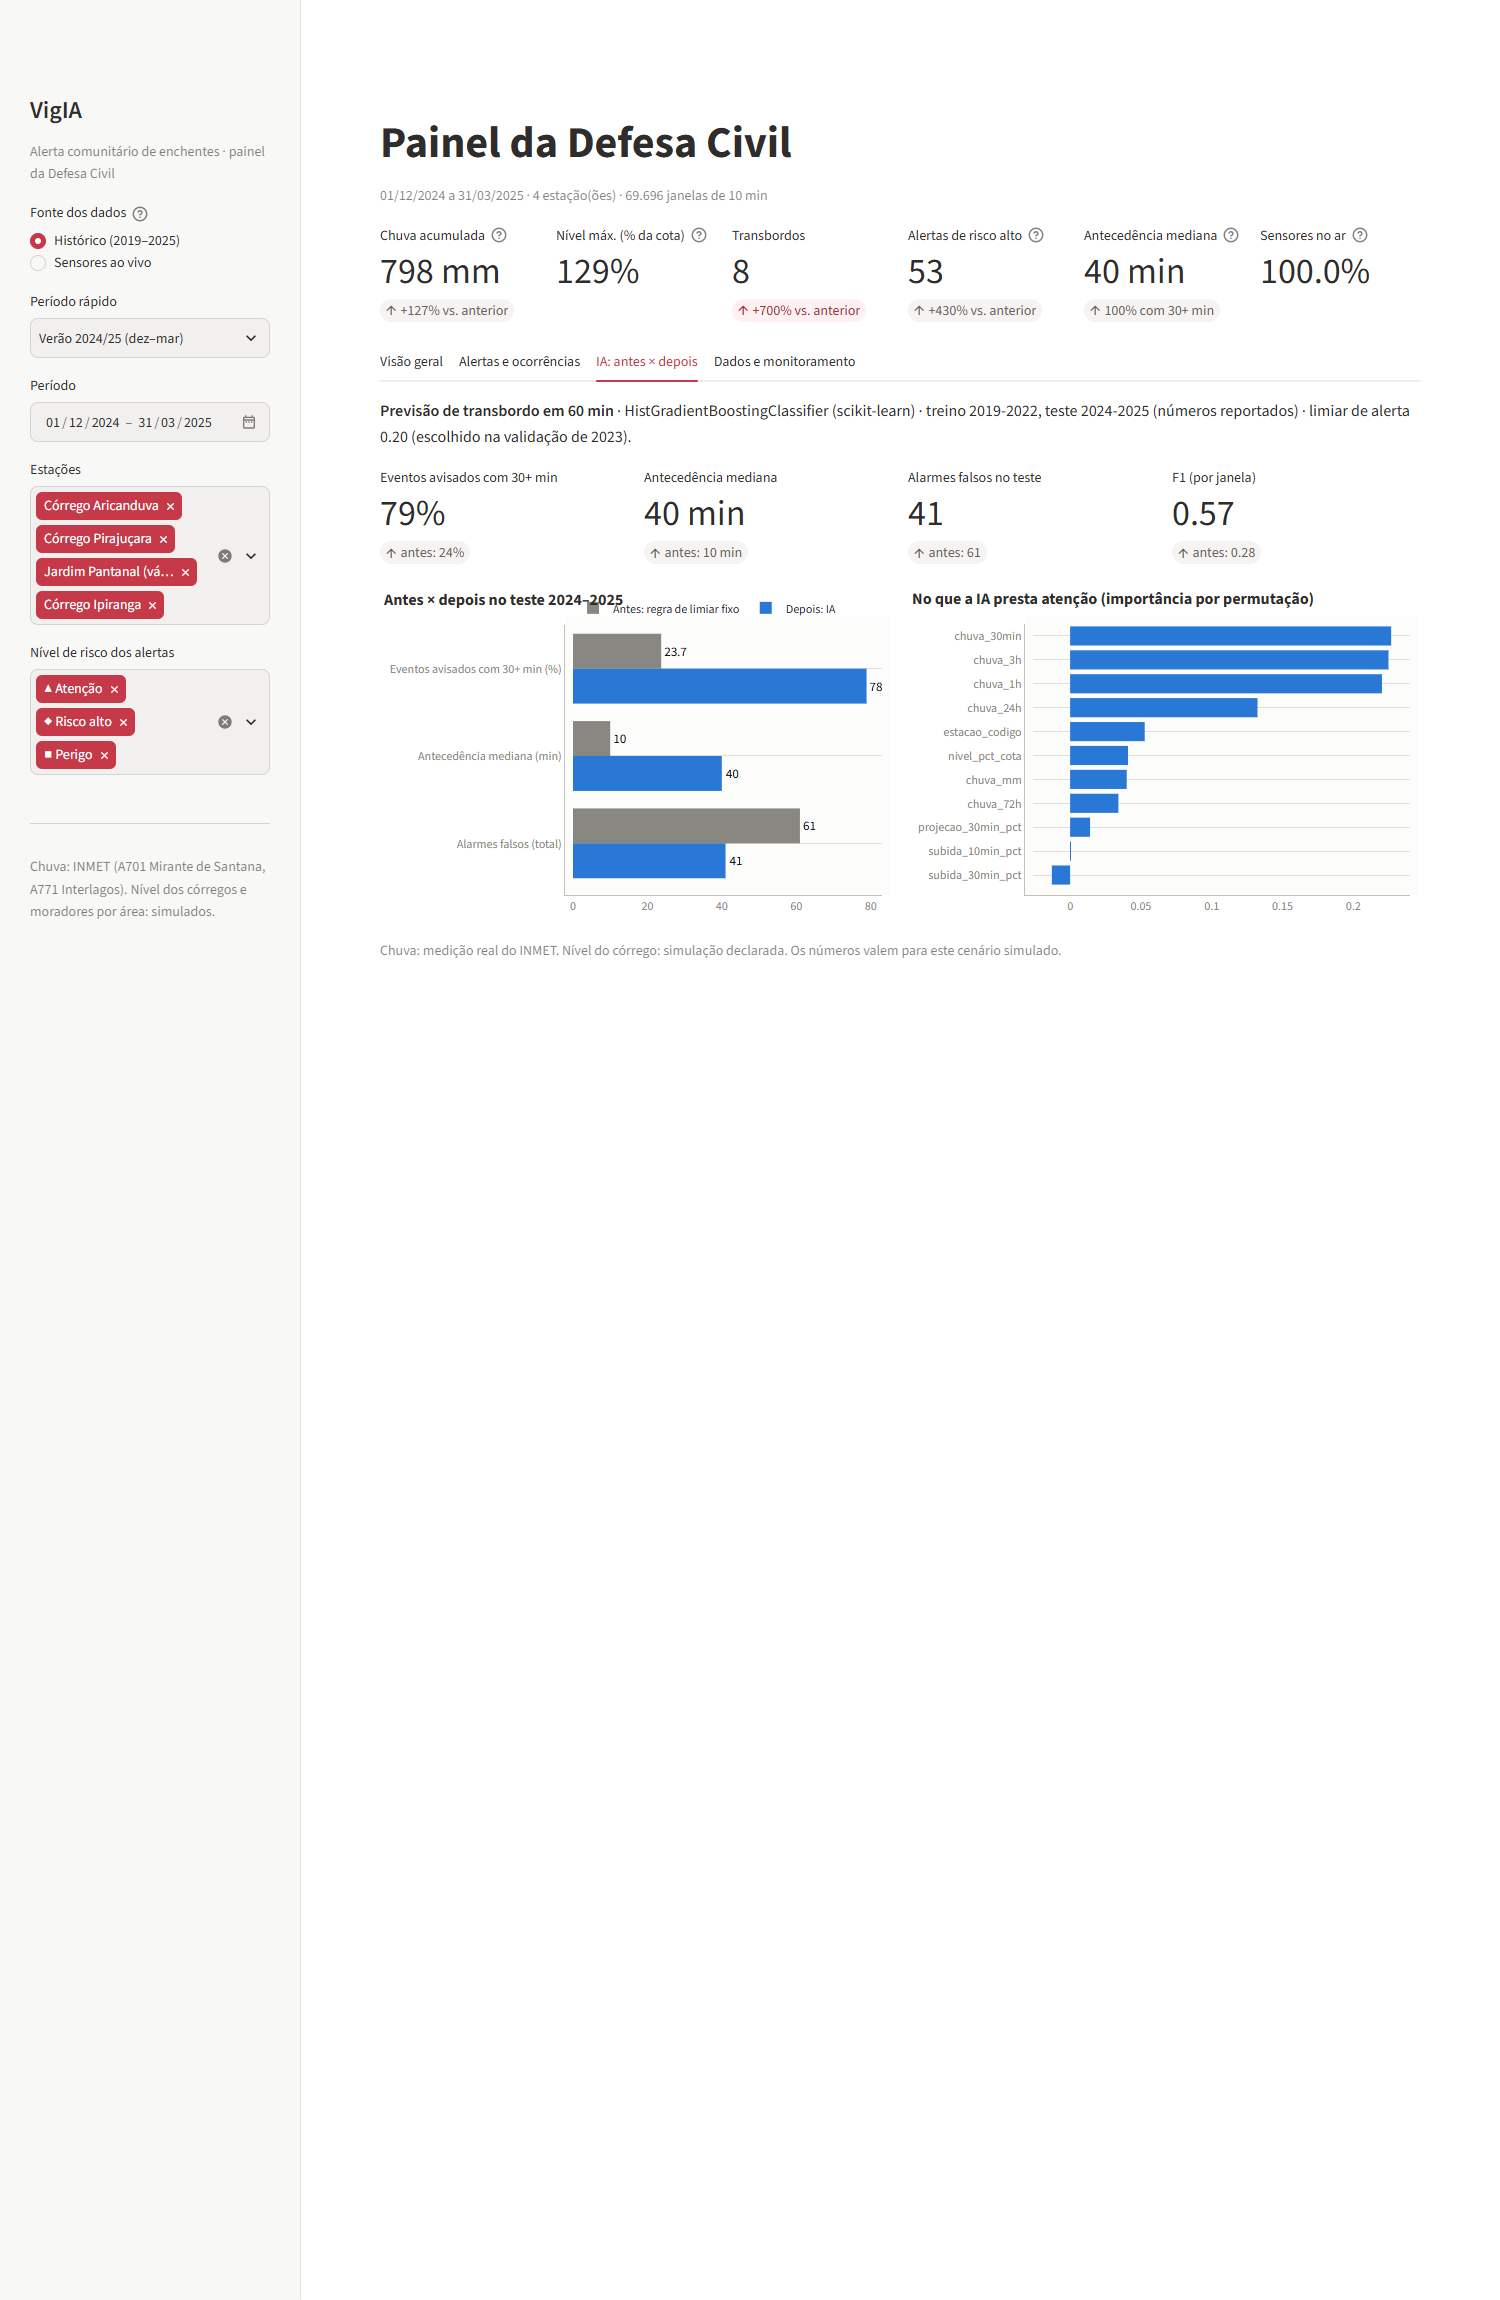

Layout of this report page (visuals, bound fields, positions):
{"tool":"powerbi","page":{"name":"Página 1","canvas":[1920,1080],"ordinal":0},"visuals":[{"type":"htmlContent443BE3AD55E043BF878BED274D3A6855","fields":{"content":["Medidas.VigIA Painel HTML"]},"box":[0,0,1920,1079.6],"z":0},{"type":"slicer","fields":{"Values":["dim_data.data"]},"box":[42.3,134.2,300.5,52.5],"z":1},{"type":"slicer","fields":{"Values":["dim_estacao.nome"]},"box":[367.7,137.1,356,52.5],"z":2}]}

Visuals, with their boxes on the page's 1920x1080 design canvas (x1, y1, x2, y2). These are canvas units, not pixel positions in the 1500x2300 screenshot, which may show the page scaled, cropped or inside an application window:
htmlContent443BE3AD55E043BF878BED274D3A6855 - Medidas.VigIA Painel HTML: [x1=0, y1=0, x2=1920, y2=1080]
slicer - dim_data.data: [x1=42, y1=134, x2=343, y2=187]
slicer - dim_estacao.nome: [x1=368, y1=137, x2=724, y2=190]
